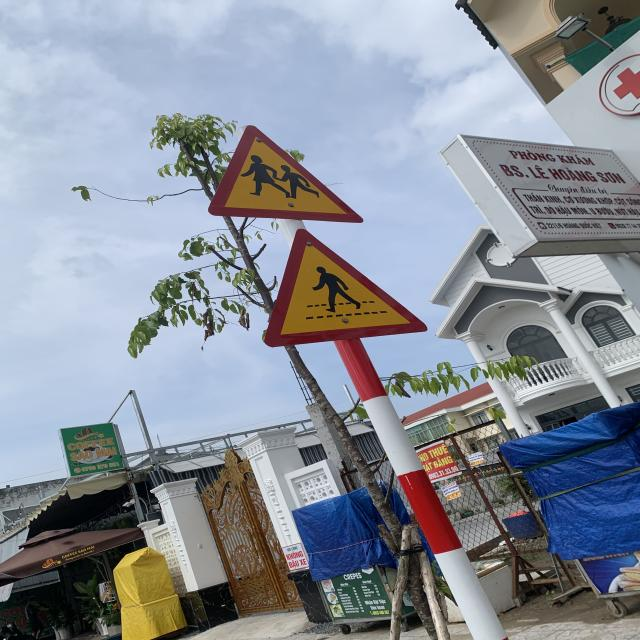Duong_Nguoi_Di_Bo_Sang_Ngang: (262, 227, 428, 346)
Vong_Xuyen: (207, 124, 365, 225)
